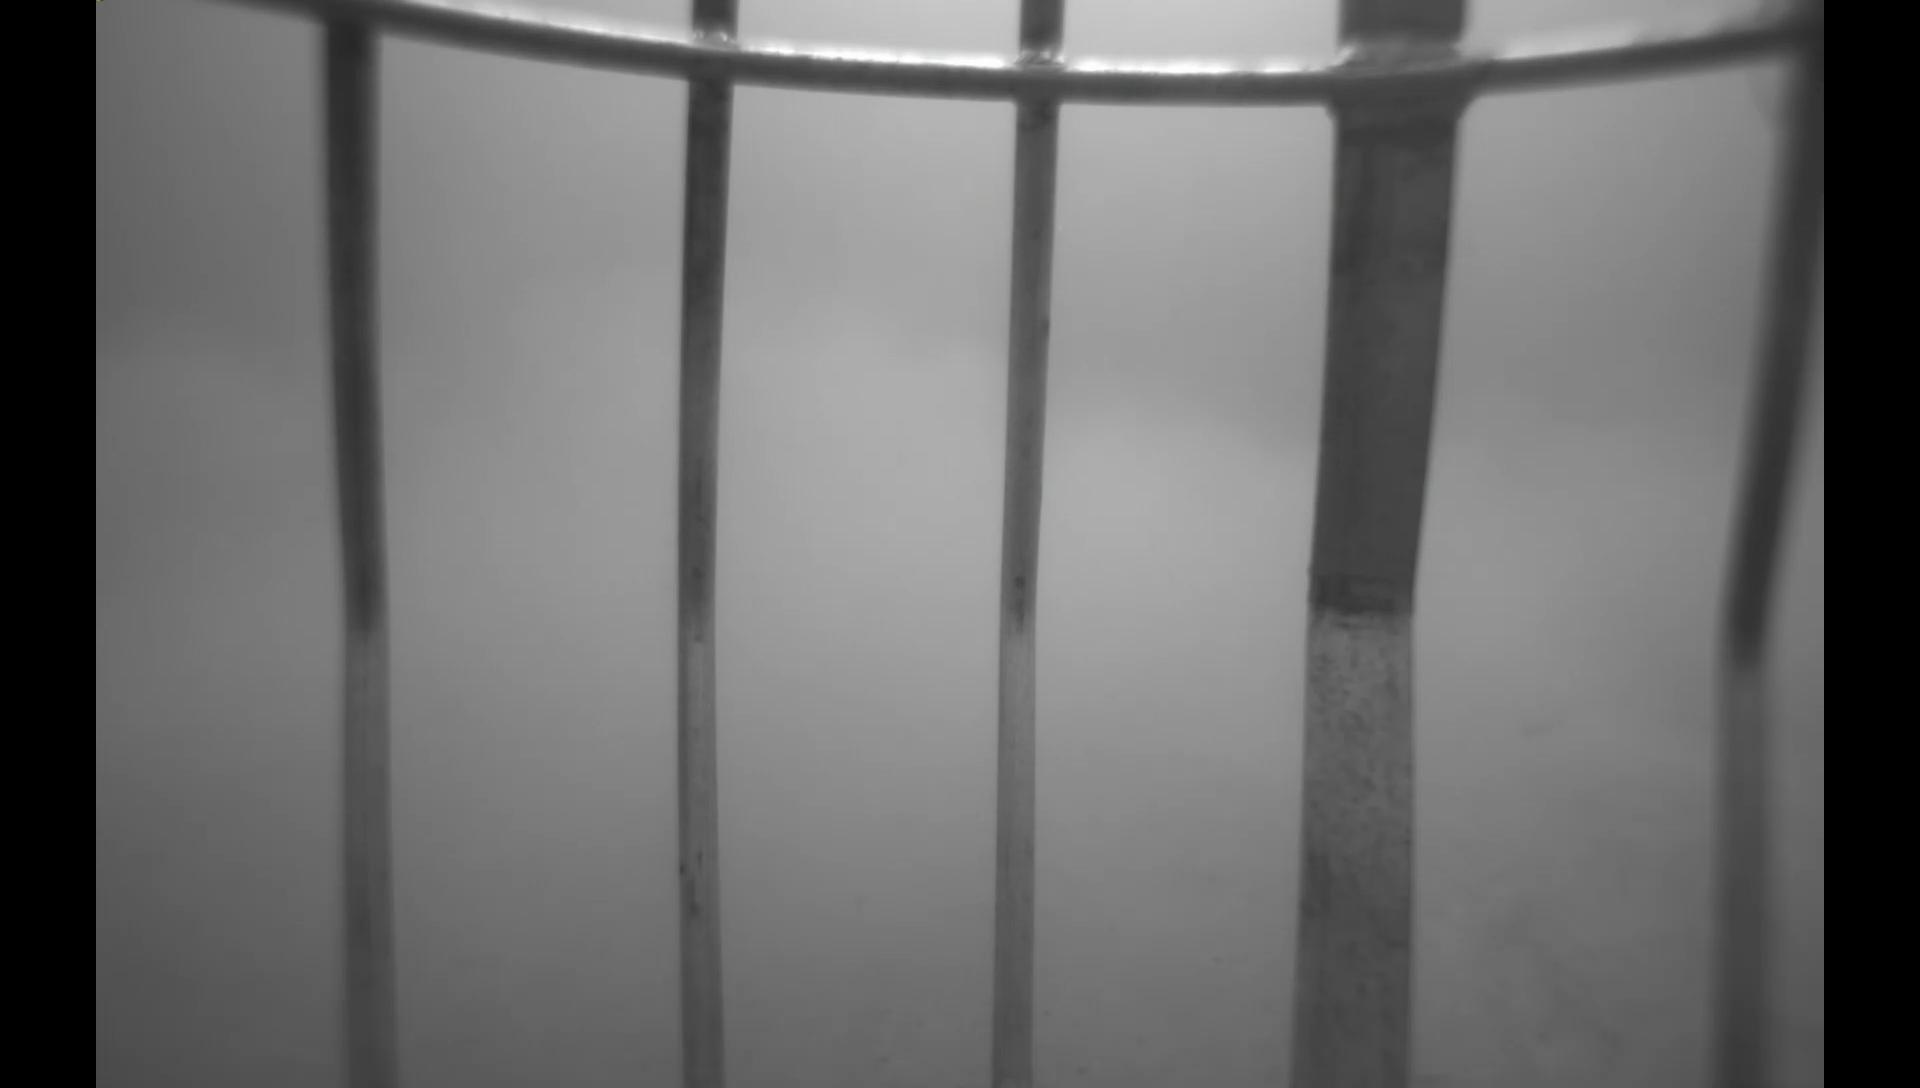OPHICHTHUSPUNCTICEPS-143150402: (1514, 708, 1577, 742)
